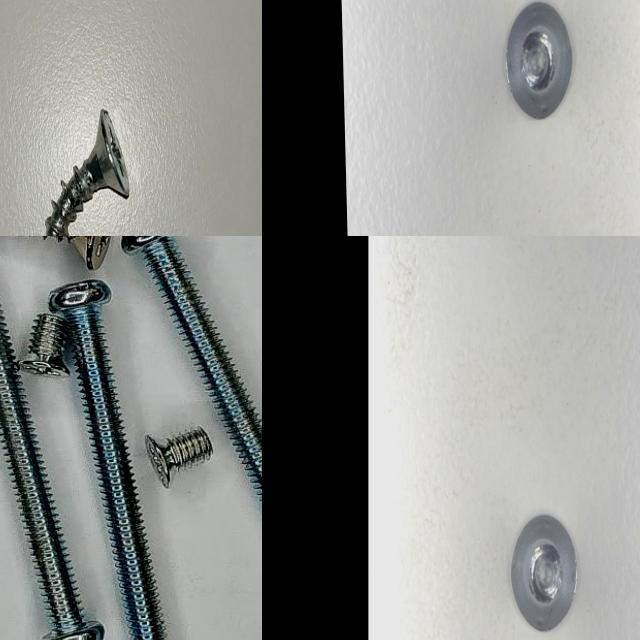Screw: (49, 280, 168, 640), (122, 236, 262, 490), (0, 302, 105, 640), (46, 109, 129, 236), (511, 515, 577, 630), (507, 2, 572, 117), (146, 428, 214, 488), (18, 314, 71, 377)
